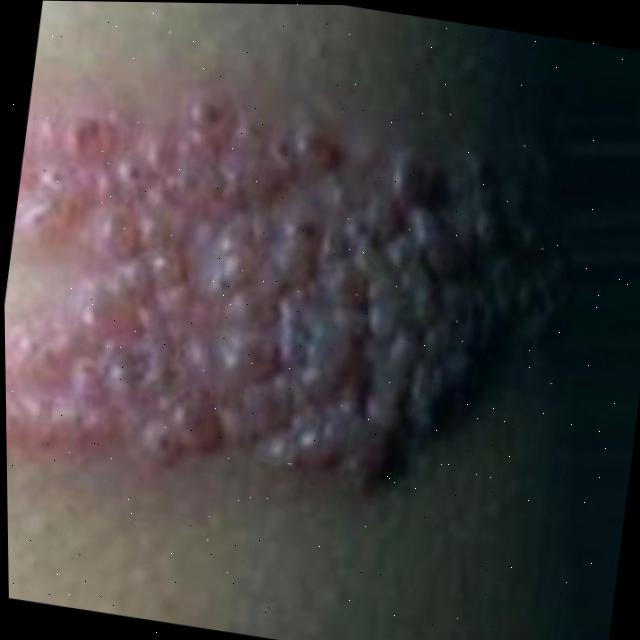Shingles: (1, 72, 609, 534)
